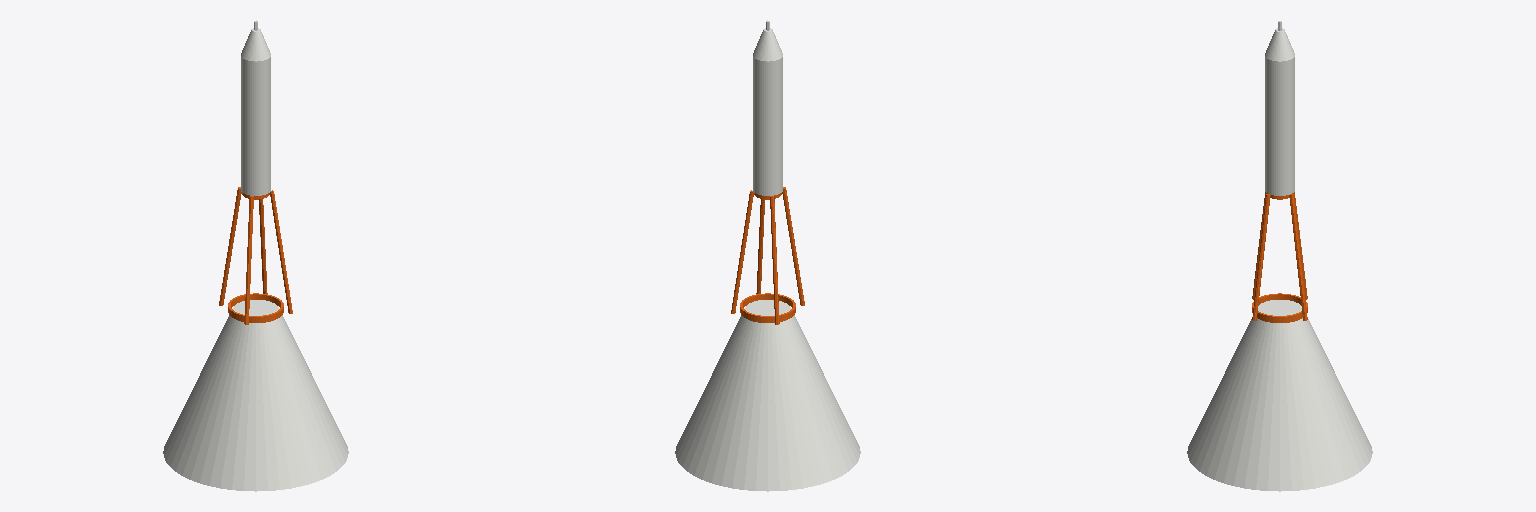
URDF robot description (les):
<?xml version="1.0"?>
<!-- Launch Escape System: tower, motor and boost protective cover, at scale -->
<robot name="les">
  <link name="base">
    <visual>
      <origin xyz="0 0 0" rpy="0 0 0"/>
      <geometry><mesh filename="meshes/les_cover.stl"/></geometry>
      <material name="base_0"><color rgba="0.920 0.920 0.900 1"/></material>
    </visual>
    <visual>
      <origin xyz="0 0 0" rpy="0 0 0"/>
      <geometry><mesh filename="meshes/les_tower.stl"/></geometry>
      <material name="base_1"><color rgba="0.950 0.450 0.120 1"/></material>
    </visual>
    <inertial><mass value="4170"/><origin xyz="0 0 0"/><inertia ixx="1" ixy="0" ixz="0" iyy="1" iyz="0" izz="1"/></inertial>
  </link>
</robot>

--- Facts derived from the render (not from the file) ---
3 views of the same robot in one strip: view 1: azimuth 30°, elevation 25°; view 2: azimuth 150°, elevation 25°; view 3: azimuth 270°, elevation 25° (orthographic).
Robot: les — 1 links, 0 joints (none); root link base; default pose: every joint at zero.
Visible links, largest first — view 1: base; view 2: base; view 3: base.
Boxes of the visible links, x1,y1,x2,y2 form: base: (163, 20, 348, 491); base: (675, 20, 860, 491); base: (1187, 21, 1372, 491).
Size in the robot's own frame: 4 by 4 by 10.25 metres.
2 mesh visuals loaded from 2 distinct referenced files (2 binary STL).
